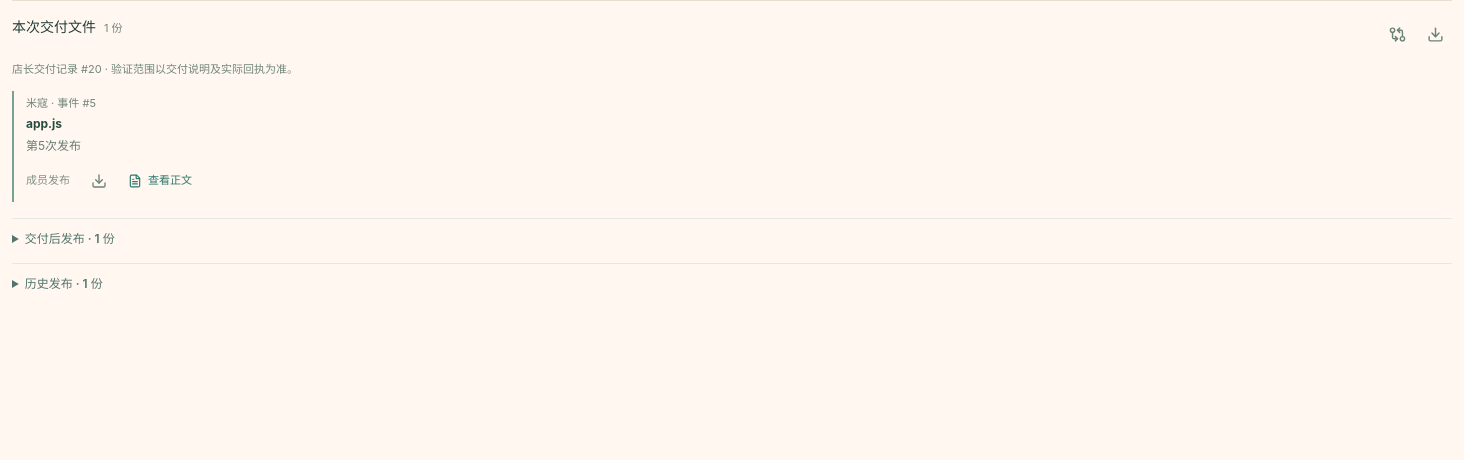
Test case: 冻结交付不被后来同名发布覆盖，后发布默认折叠
The width and height of the screenshot is (1464, 460).
Check: the list named "本次交付文件" shows "事件 #5", box [12,91,1452,202]
Check: the list "本次交付文件" does not show "事件 #25"
Click the heading "交付后发布 · 1 份" at (70, 238), box [25,230,115,246]
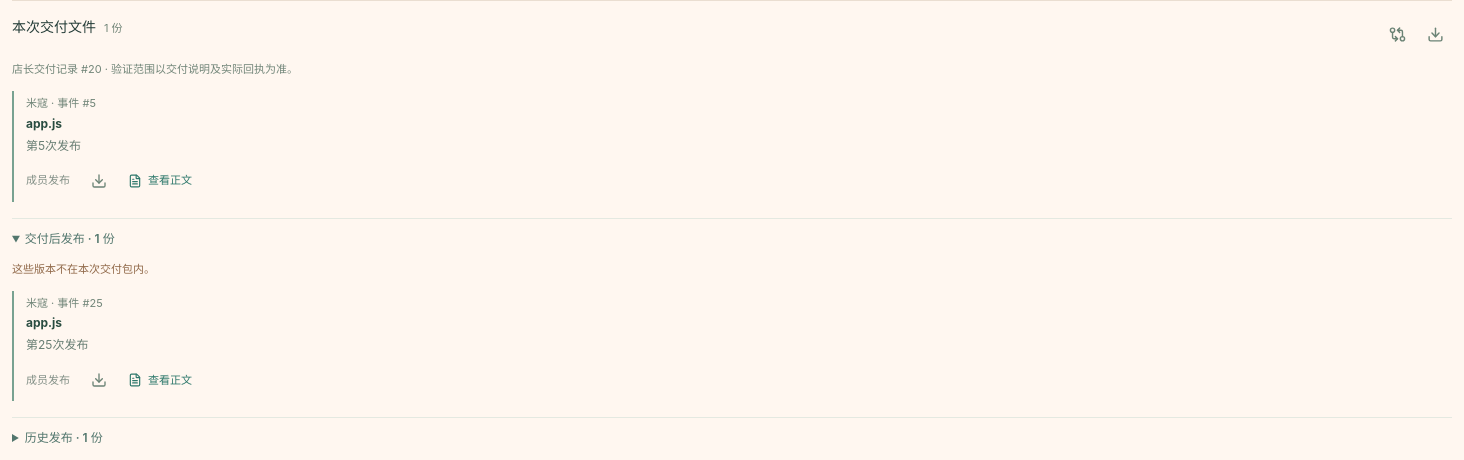
Check: the list named "交付后发布" shows "事件 #25", box [12,290,1452,401]
Check: the text "这些版本不在本次交付包内。" is shown, box [12,262,155,276]
